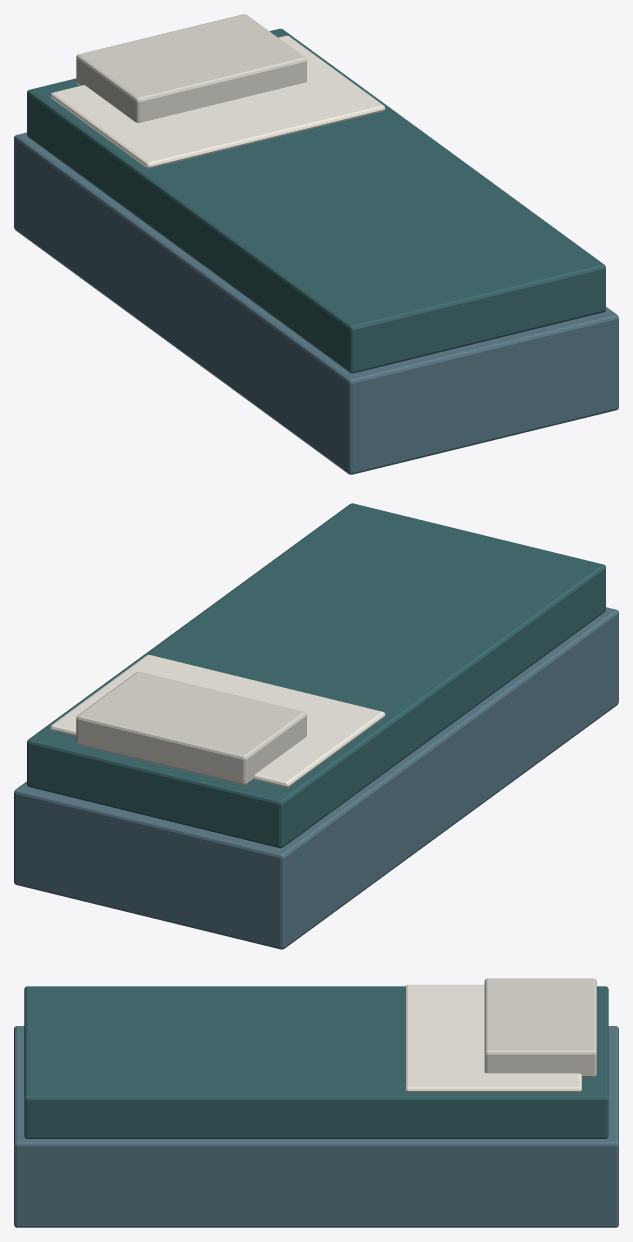
File: PROP_Bed_AntiLigature.glb
3 renders of one model, top to bottom at view 1: azimuth 30°, elevation 25°; view 2: azimuth 150°, elevation 25°; view 3: azimuth 270°, elevation 25°, orthographic. The views are drawn at different scales.
Visible parts, largest first — view 1: PROP_Bed_AntiLigature_Mesh; view 2: PROP_Bed_AntiLigature_Mesh; view 3: PROP_Bed_AntiLigature_Mesh.
Boxes of the visible parts, box(x1,y1,x2,y2) form: PROP_Bed_AntiLigature_Mesh: box(14, 14, 618, 474); PROP_Bed_AntiLigature_Mesh: box(14, 503, 618, 949); PROP_Bed_AntiLigature_Mesh: box(14, 978, 618, 1227).
Size of what is drawn, in the model's own units: 0.95 by 0.58 by 2.05.
